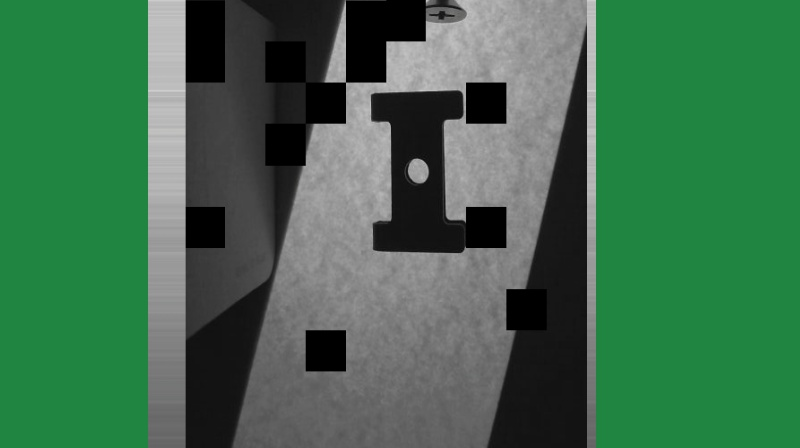O002: (366, 84, 471, 255)
S001: (418, 0, 470, 25)
